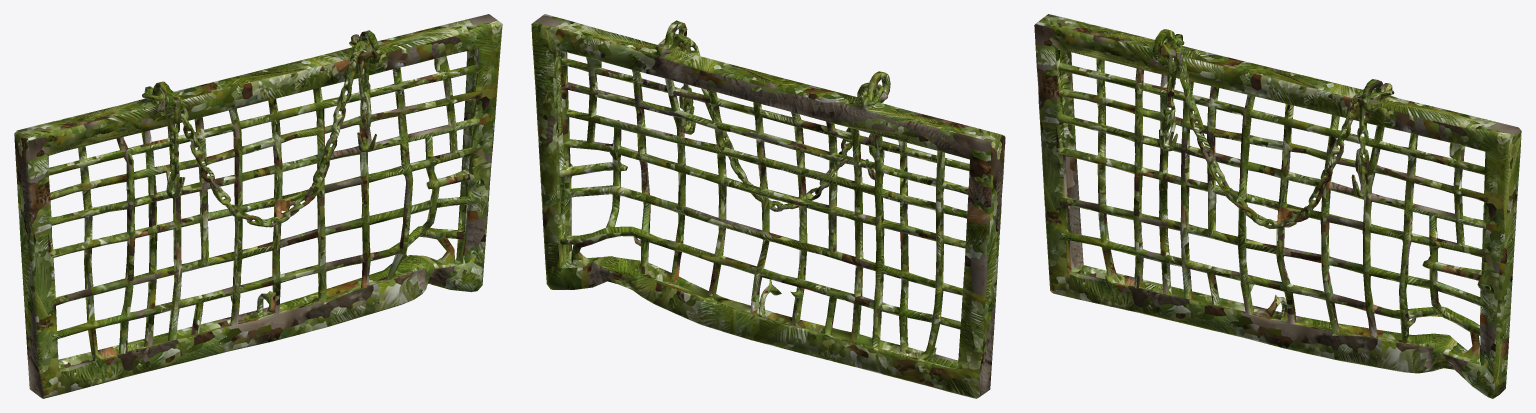
File: GeneratedMesh.fbx
3 views of the same model, side by side, from view 1: azimuth 30°, elevation 25°; view 2: azimuth 150°, elevation 25°; view 3: azimuth 330°, elevation 25° (orthographic). The views are drawn at different scales.
Parts seen in each view (by area): view 1: mesh_node; view 2: mesh_node; view 3: mesh_node.
Boxes of the visible parts, <box> form: mesh_node: <box>14,14,502,398</box>; mesh_node: <box>531,14,1005,398</box>; mesh_node: <box>1034,14,1521,398</box>.
Bounding box in the file's own units: 1.98 × 1.17 × 0.2208.
